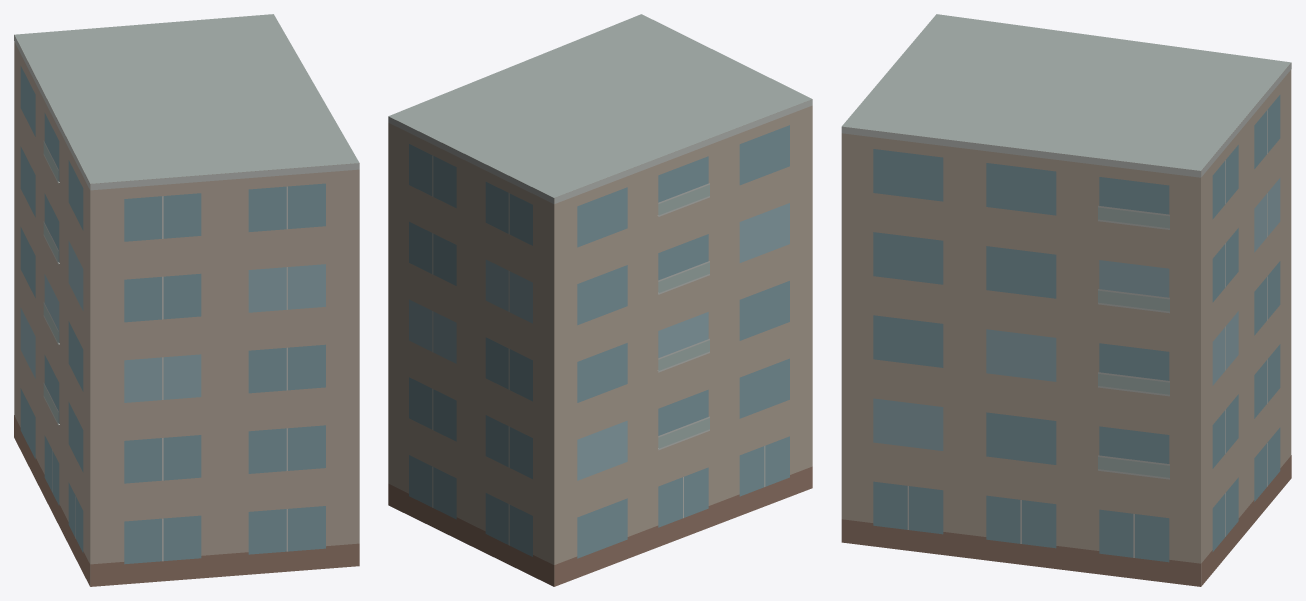
Rendered from survey-upis-32678258.glb.
The picture shows the model from 3 angles, left to right: view 1: azimuth 30°, elevation 25°; view 2: azimuth 150°, elevation 25°; view 3: azimuth 270°, elevation 25°; orthographic projection. The views are drawn at different scales.
Visible parts, largest first — view 1: survey-upis-32678258.tmp; view 2: survey-upis-32678258.tmp; view 3: survey-upis-32678258.tmp.
Part boxes in pixels (bbox=[...]): survey-upis-32678258.tmp: bbox=[14, 14, 359, 586]; survey-upis-32678258.tmp: bbox=[388, 14, 812, 586]; survey-upis-32678258.tmp: bbox=[841, 14, 1291, 586].
Bounding box in the file's own units: 12.15 × 15 × 14.71.
